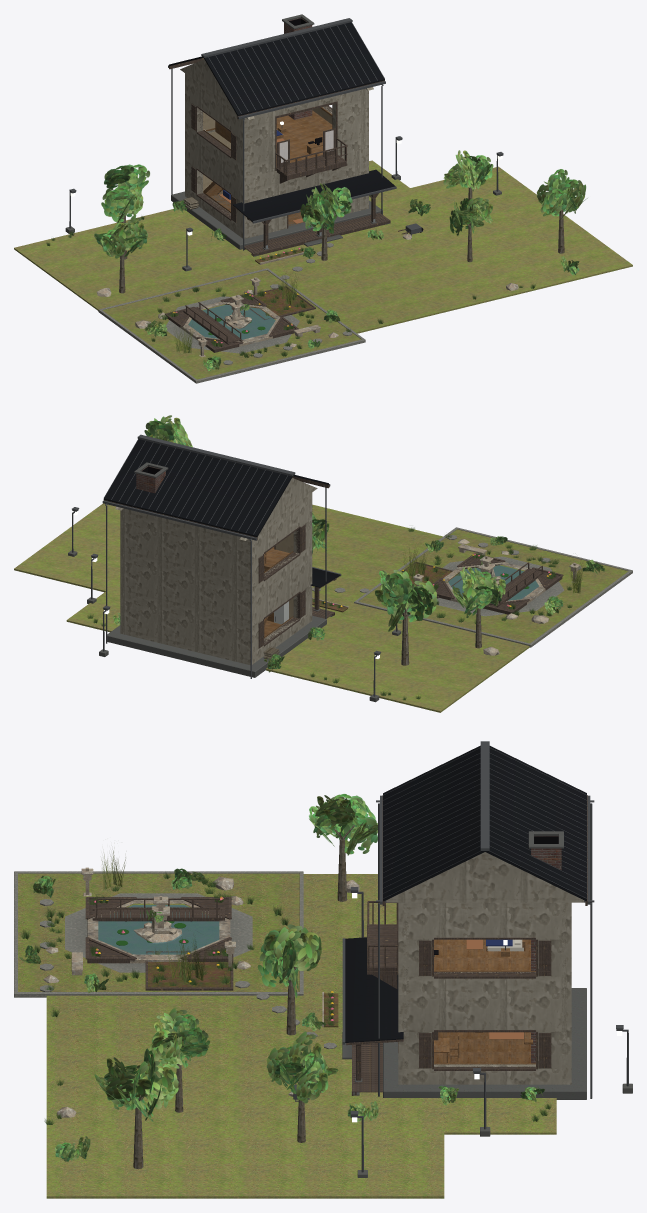
Rendered from garden-ac.glb.
3 views of the same model, one above another, from view 1: azimuth 30°, elevation 25°; view 2: azimuth 150°, elevation 25°; view 3: azimuth 270°, elevation 25° (orthographic). The views are drawn at different scales.
Parts seen in each view (by area): view 1: MESH_GARDEN_BASE_LAWN_LOD0, MESH_GARDEN_PLASTER_OLD_LOD0, MESH_GARDEN_ROOF_METAL_DARK_LOD0, MESH_GARDEN_IMPACT_FOLIAGE_LEAF_CLUSTER_SWAY_CANOPY_LOD0, MESH_GARDEN_WOOD_WEATHERED_LOD0, MESH_GARDEN_STEEL_DARK_LOD0, MESH_GARDEN_BASE_STONE_PAVING_LOD0, MESH_GARDEN_WOOD_INTERIOR_LOD0, MESH_GARDEN_BASE_CONCRETE_LOD0, MESH_GARDEN_ROCK_LOD0, MESH_GARDEN_BASE_SOIL_LOD0, MESH_GARDEN_IMPACT_FOLIAGE_GRASS_TUFT_SWAY_GRASS_NORAY_LOD0 (+4 smaller); view 2: MESH_GARDEN_BASE_LAWN_LOD0, MESH_GARDEN_PLASTER_OLD_LOD0, MESH_GARDEN_ROOF_METAL_DARK_LOD0, MESH_GARDEN_IMPACT_FOLIAGE_LEAF_CLUSTER_SWAY_CANOPY_LOD0, MESH_GARDEN_WOOD_WEATHERED_LOD0, MESH_GARDEN_STEEL_DARK_LOD0, MESH_GARDEN_BASE_CONCRETE_LOD0, MESH_GARDEN_BASE_STONE_PAVING_LOD0, MESH_GARDEN_ROCK_LOD0, MESH_GARDEN_IMPACT_FOLIAGE_GRASS_TUFT_SWAY_GRASS_NORAY_LOD0, MESH_GARDEN_BASE_SOIL_LOD0, MESH_GARDEN_BARK_LOD0 (+4 smaller); view 3: MESH_GARDEN_BASE_LAWN_LOD0, MESH_GARDEN_PLASTER_OLD_LOD0, MESH_GARDEN_ROOF_METAL_DARK_LOD0, MESH_GARDEN_IMPACT_FOLIAGE_LEAF_CLUSTER_SWAY_CANOPY_LOD0, MESH_GARDEN_WOOD_WEATHERED_LOD0, MESH_GARDEN_STEEL_DARK_LOD0, MESH_GARDEN_BASE_STONE_PAVING_LOD0, MESH_GARDEN_BASE_CONCRETE_LOD0, MESH_GARDEN_WOOD_INTERIOR_LOD0, MESH_GARDEN_BASE_SOIL_LOD0, MESH_GARDEN_ROCK_LOD0, MESH_GARDEN_IMPACT_WATER_POND_WATER_POND_RIPPLE_LOD0 (+5 smaller).
Part boxes in pixels (x1,y1,x2,y2): MESH_GARDEN_BASE_LAWN_LOD0: (14,160,632,379); MESH_GARDEN_PLASTER_OLD_LOD0: (180,59,373,238); MESH_GARDEN_ROOF_METAL_DARK_LOD0: (169,22,395,221); MESH_GARDEN_IMPACT_FOLIAGE_LEAF_CLUSTER_SWAY_CANOPY_LOD0: (94,150,587,370); MESH_GARDEN_WOOD_WEATHERED_LOD0: (165,58,410,352); MESH_GARDEN_STEEL_DARK_LOD0: (69,18,503,267); MESH_GARDEN_BASE_STONE_PAVING_LOD0: (98,243,365,383); MESH_GARDEN_WOOD_INTERIOR_LOD0: (203,107,332,225); MESH_GARDEN_BASE_CONCRETE_LOD0: (65,14,501,271); MESH_GARDEN_ROCK_LOD0: (96,233,518,357); MESH_GARDEN_BASE_SOIL_LOD0: (189,249,312,339); MESH_GARDEN_IMPACT_FOLIAGE_GRASS_TUFT_SWAY_GRASS_NORAY_LOD0: (46,216,535,357); MESH_GARDEN_BASE_LAWN_LOD0: (14,503,628,712); MESH_GARDEN_PLASTER_OLD_LOD0: (115,478,317,665); MESH_GARDEN_ROOF_METAL_DARK_LOD0: (103,439,340,587); MESH_GARDEN_IMPACT_FOLIAGE_LEAF_CLUSTER_SWAY_CANOPY_LOD0: (113,415,604,672); MESH_GARDEN_WOOD_WEATHERED_LOD0: (104,476,563,648); MESH_GARDEN_STEEL_DARK_LOD0: (72,434,397,696); MESH_GARDEN_BASE_CONCRETE_LOD0: (68,462,401,702); MESH_GARDEN_BASE_STONE_PAVING_LOD0: (312,527,632,647); MESH_GARDEN_ROCK_LOD0: (312,539,580,655); MESH_GARDEN_IMPACT_FOLIAGE_GRASS_TUFT_SWAY_GRASS_NORAY_LOD0: (87,506,572,700); MESH_GARDEN_BASE_SOIL_LOD0: (312,563,538,612); MESH_GARDEN_BARK_LOD0: (263,605,481,665); MESH_GARDEN_BASE_LAWN_LOD0: (18,873,556,1198); MESH_GARDEN_PLASTER_OLD_LOD0: (385,852,584,1084); MESH_GARDEN_ROOF_METAL_DARK_LOD0: (345,745,586,1042); MESH_GARDEN_IMPACT_FOLIAGE_LEAF_CLUSTER_SWAY_CANOPY_LOD0: (19,794,544,1161); MESH_GARDEN_WOOD_WEATHERED_LOD0: (85,795,587,1095); MESH_GARDEN_STEEL_DARK_LOD0: (293,741,628,1172); MESH_GARDEN_BASE_STONE_PAVING_LOD0: (14,871,336,1049); MESH_GARDEN_BASE_CONCRETE_LOD0: (342,831,632,1177); MESH_GARDEN_WOOD_INTERIOR_LOD0: (434,939,535,1064); MESH_GARDEN_BASE_SOIL_LOD0: (98,906,338,1027); MESH_GARDEN_ROCK_LOD0: (43,867,359,1117); MESH_GARDEN_IMPACT_WATER_POND_WATER_POND_RIPPLE_LOD0: (98,905,219,954).
Size of what is drawn, in the model's own units: 37.5 by 14.02 by 30.35.
Materials: 21 (16 with a texture image).
